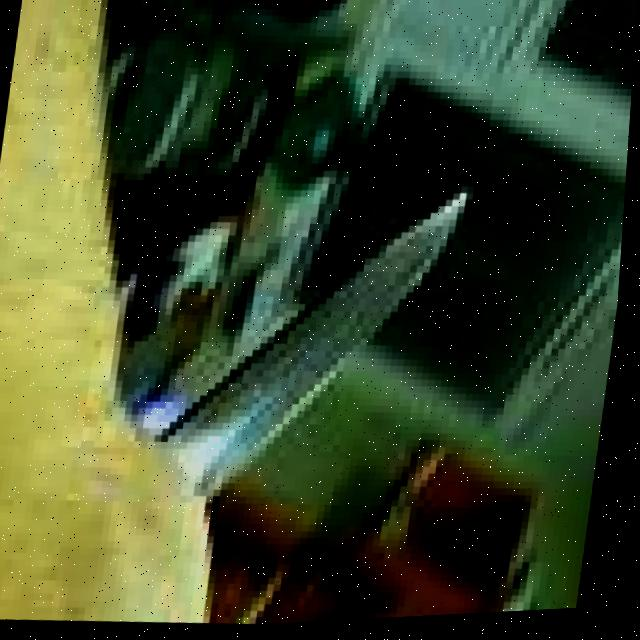knife: (183, 173, 480, 505)
